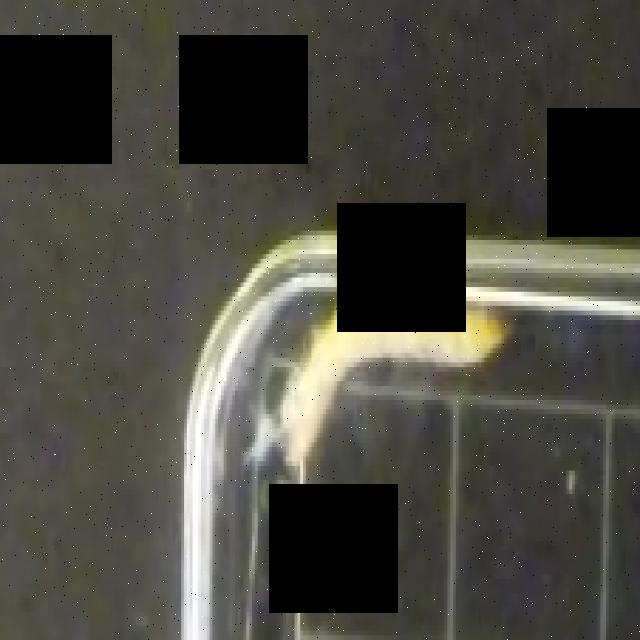larva: (284, 306, 516, 464)
